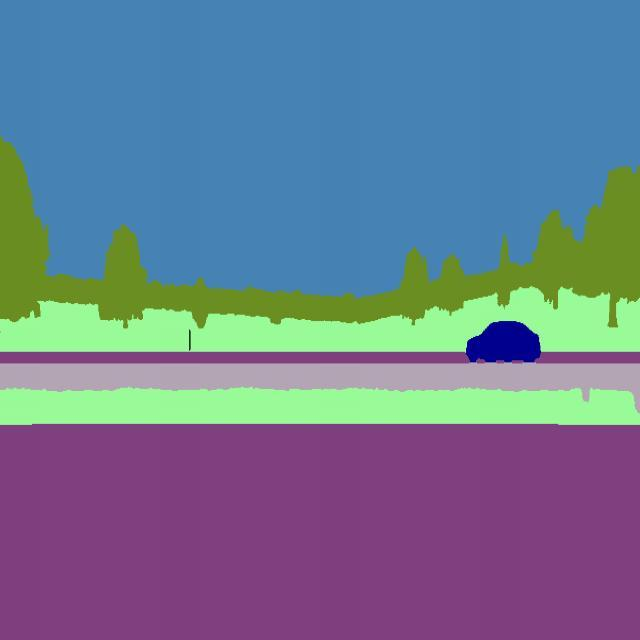safe: (463, 316, 547, 366)
